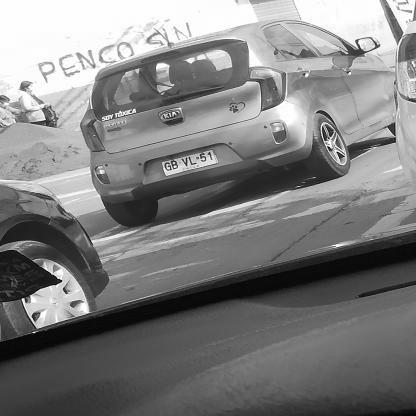Patente: (159, 148, 220, 180)
